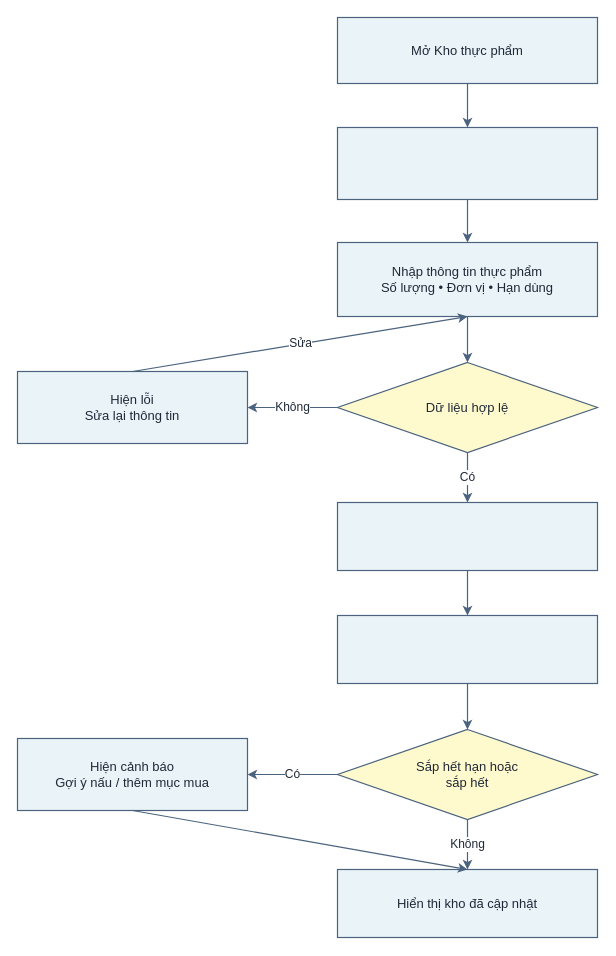
The diagram is 616 pixels wide and 956 high, and some of its shapes have lost their labels. Here are the shapes that lost their labels. From the top down, the box of each, then its label:
(336, 126, 598, 200): Chọn thêm / sửa / chuyển vị trí hoặc loại bỏ thực phẩm
(336, 501, 598, 571): Lưu theo từng lô Ghi lịch sử thay đổi
(336, 614, 598, 684): Cập nhật tồn và vị trí Kiểm tra hạn sử dụng
